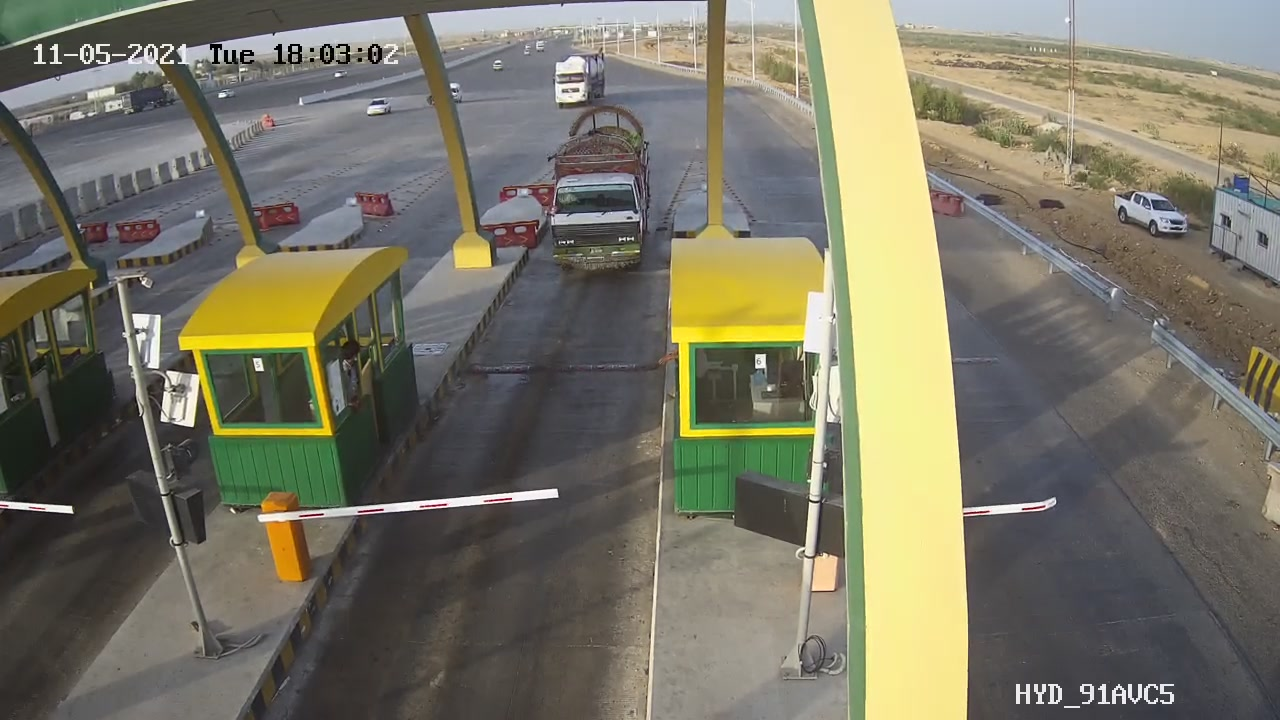F5: (535, 90, 668, 300)
